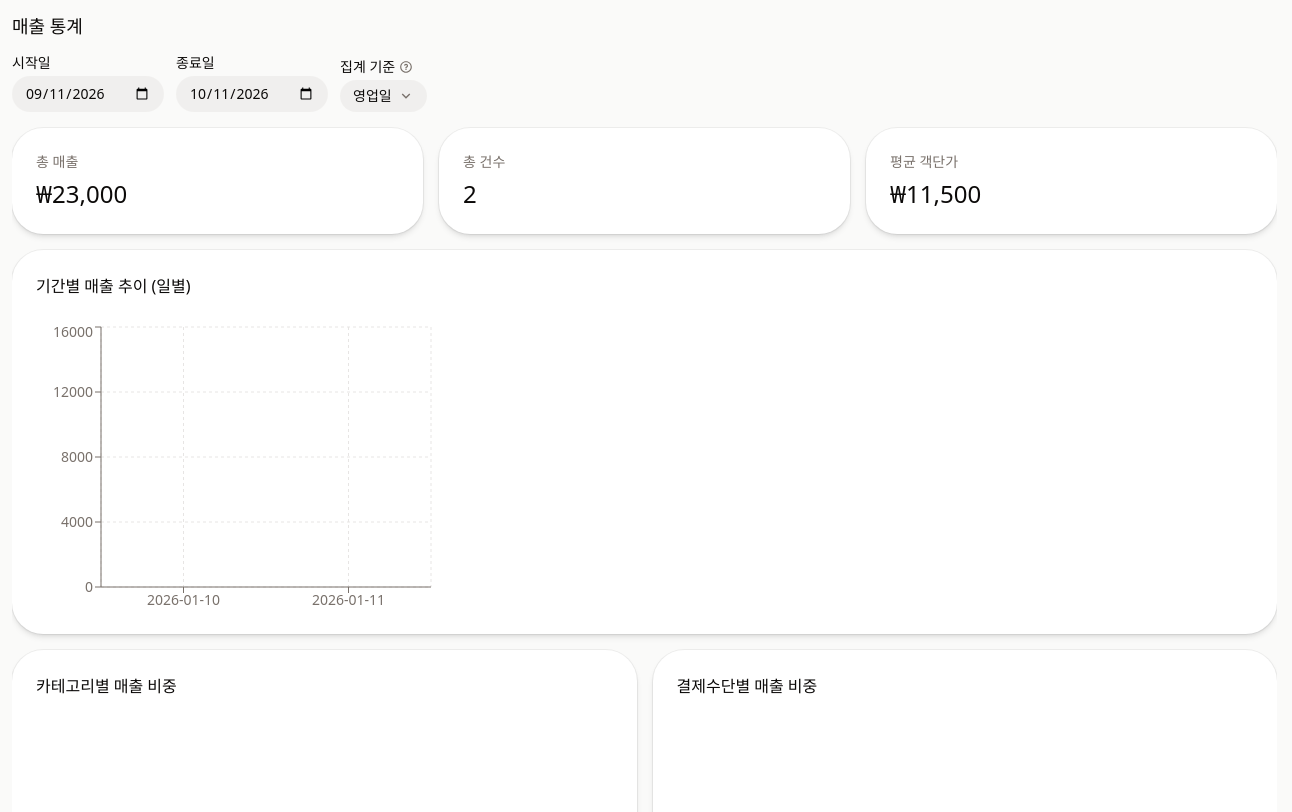
Test case: SalesStatsPage › shows a validation message when the start date is after the end date
The image size is (1292, 812).
Type "2026-02-01" into the date field labelled "시작일" at (88, 94), box [12, 76, 164, 112]
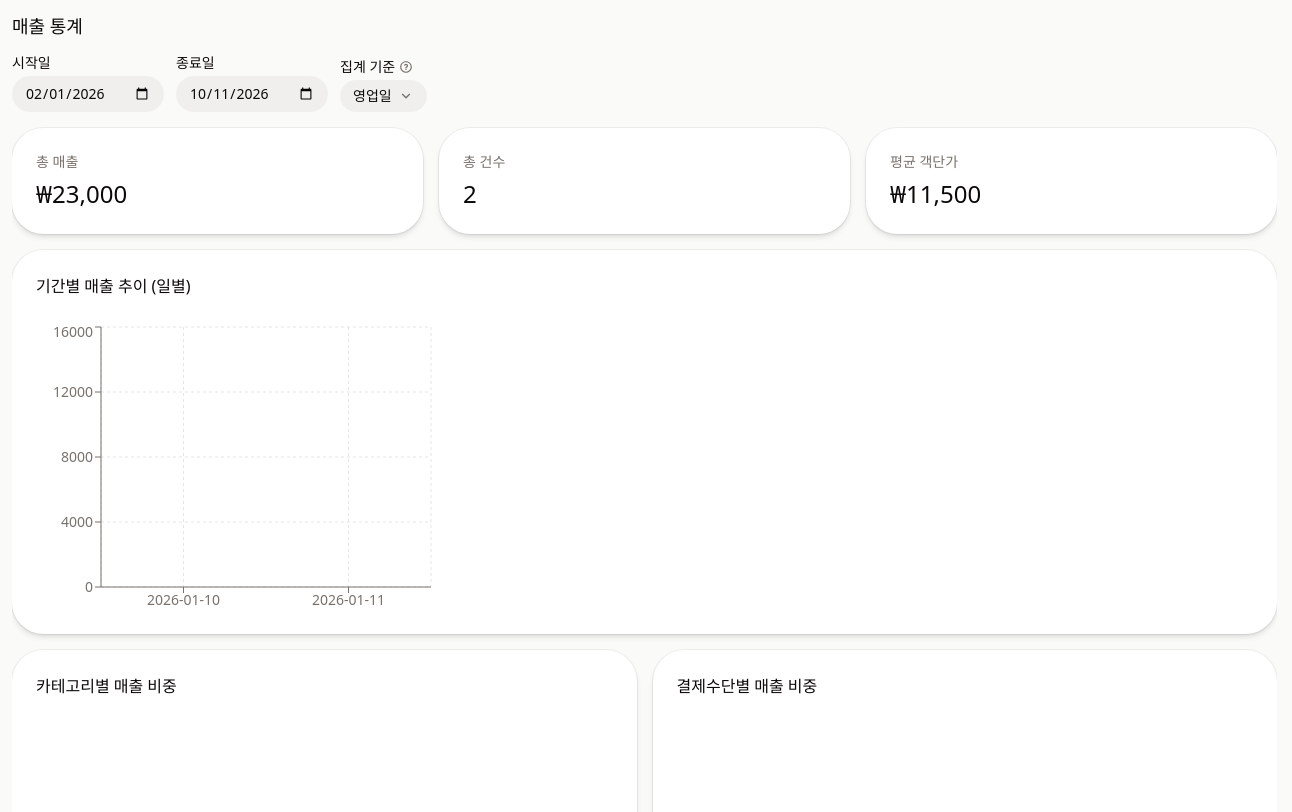
Type "2026-01-01" into the date field labelled "종료일" at (252, 94), box [176, 76, 328, 112]
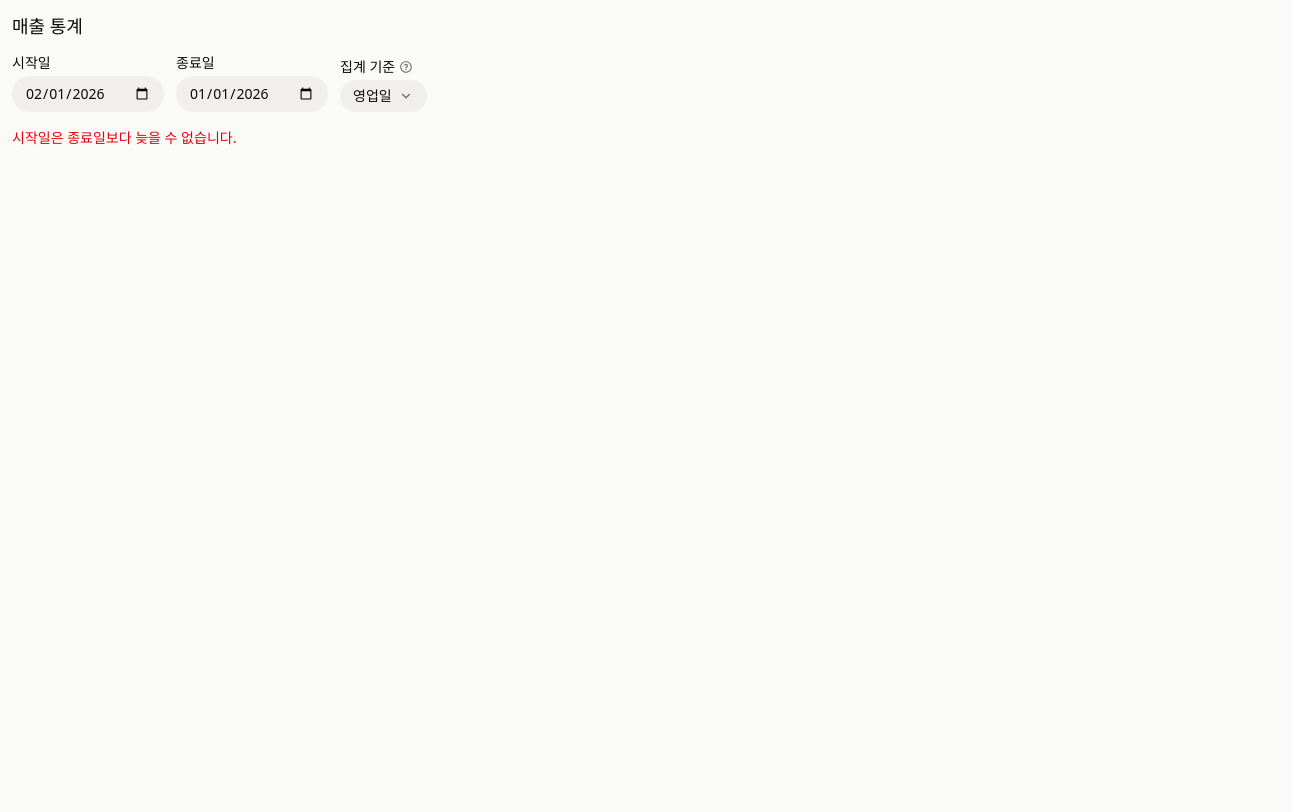
expect the text "시작일은 종료일보다 늦을 수 없습니다." is shown: met, box [12, 128, 236, 147]
